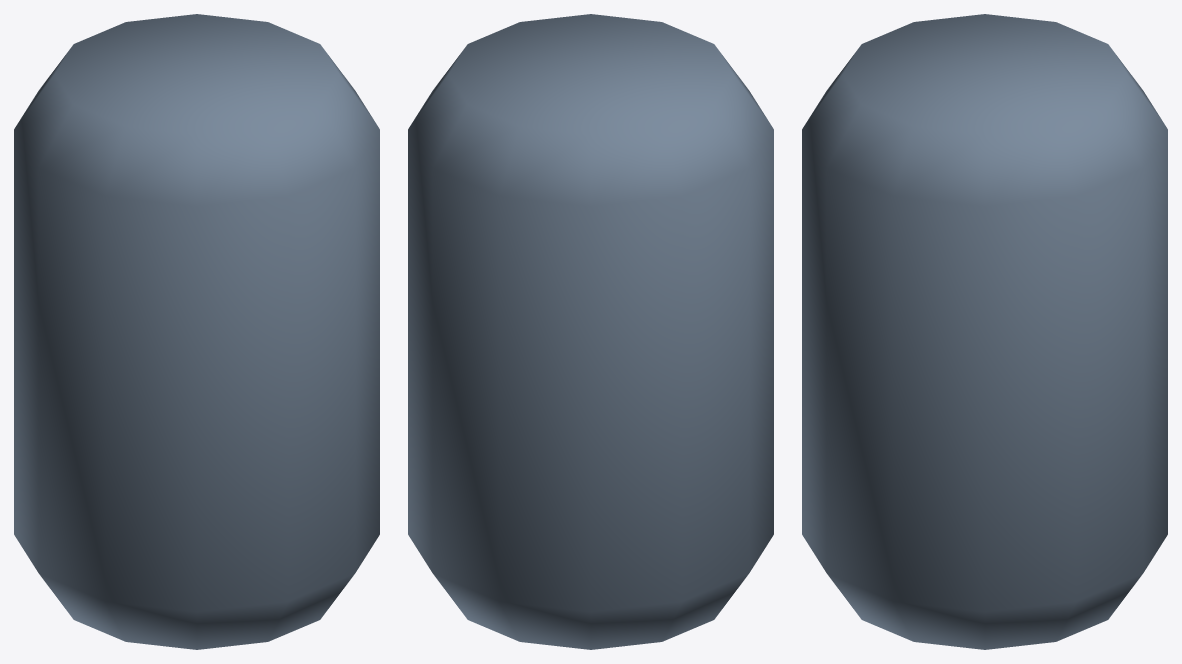
File: godot_tangent_bake_valid.glb
3 views of the same model, side by side, from view 1: azimuth 30°, elevation 25°; view 2: azimuth 150°, elevation 25°; view 3: azimuth 270°, elevation 25° (orthographic).
Parts seen in each view (by area): view 1: Godot_Tangent_Bake_Valid; view 2: Godot_Tangent_Bake_Valid; view 3: Godot_Tangent_Bake_Valid.
Boxes of the visible parts, <box> form: Godot_Tangent_Bake_Valid: <box>14,14,379,649</box>; Godot_Tangent_Bake_Valid: <box>408,14,773,649</box>; Godot_Tangent_Bake_Valid: <box>802,14,1167,649</box>.
Size of the model in its own units: 1.8 by 2.8 by 1.8.
